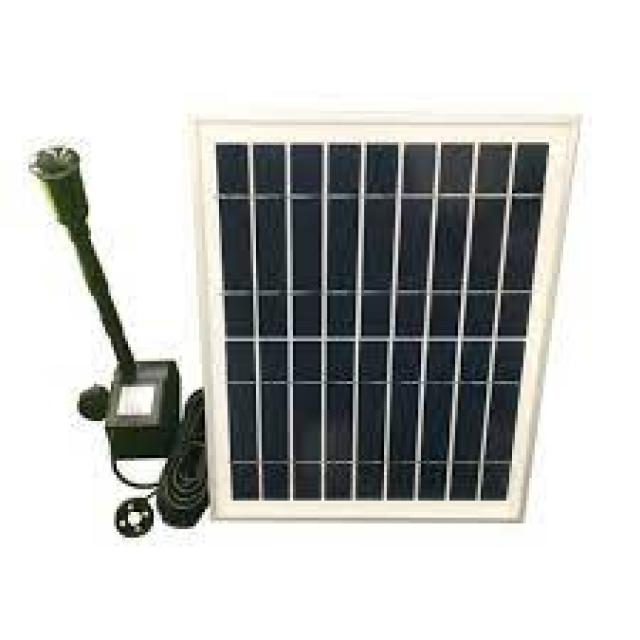no faulty: (229, 107, 522, 517)
